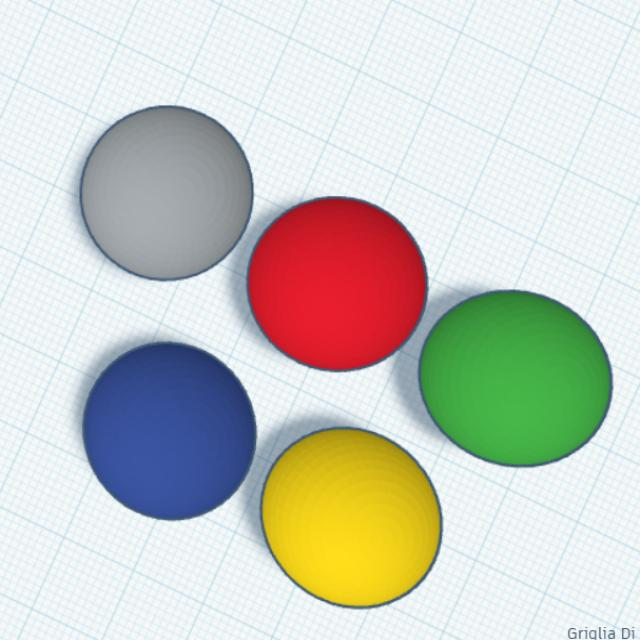sphere: (413, 286, 616, 471), (257, 422, 447, 613), (242, 192, 431, 376), (78, 338, 261, 524), (75, 102, 257, 285)
